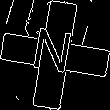N_S: (31, 27, 79, 83)
